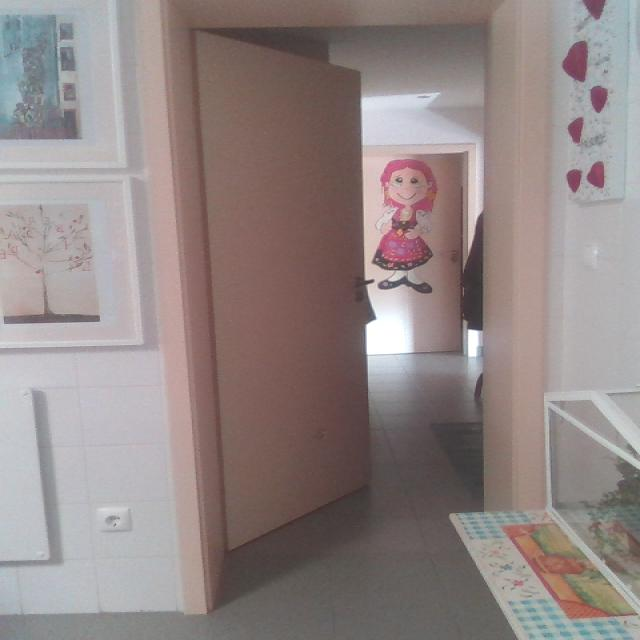door: (150, 5, 557, 627)
